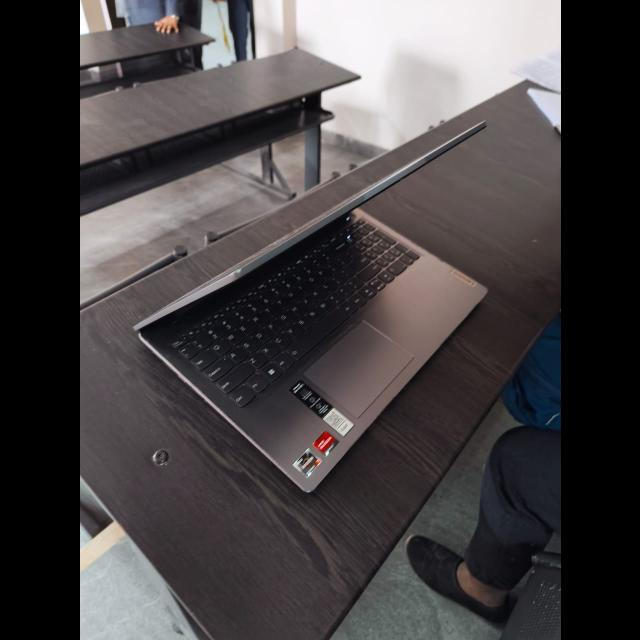laptop: (133, 122, 486, 491)
